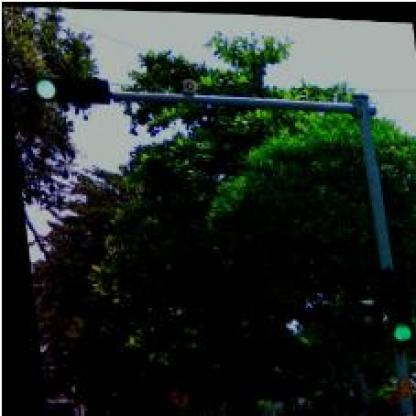green: (27, 70, 109, 102), (376, 262, 408, 343)
